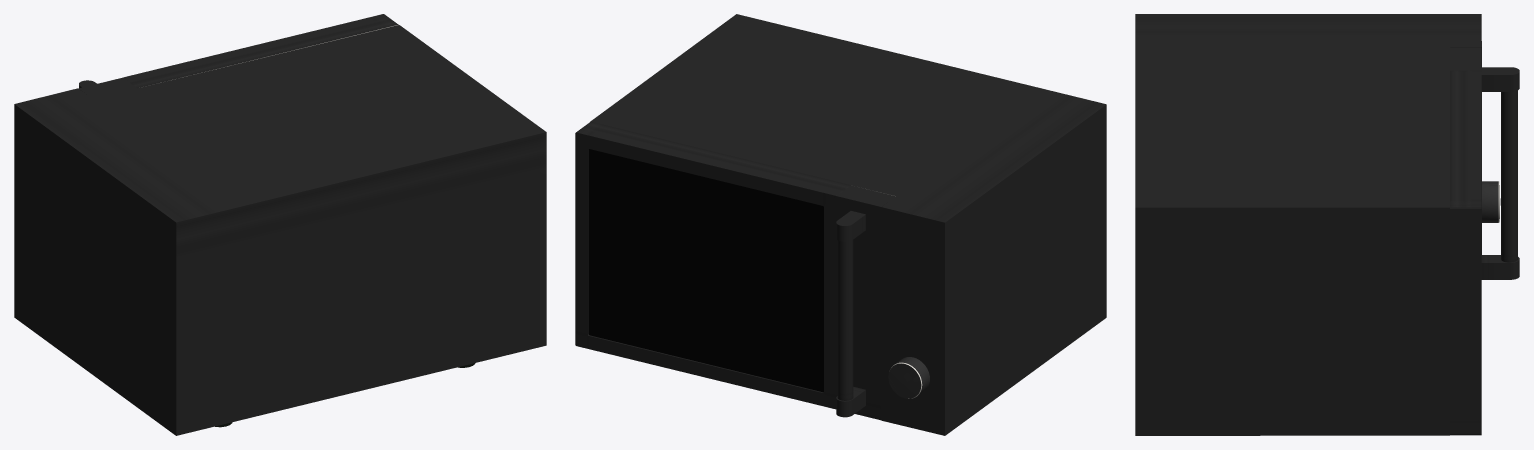
File: MicrowaveOven03.glb
3 renders of one model, left to right at view 1: azimuth 30°, elevation 25°; view 2: azimuth 150°, elevation 25°; view 3: azimuth 270°, elevation 25°, orthographic. The views are drawn at different scales.
Visible parts, largest first — view 1: MicrowaveOven03_model, MicrowaveOven03_Door; view 2: MicrowaveOven03_model, MicrowaveOven03Glass, MicrowaveOven03_Door, MicrowaveOven03_Knob; view 3: MicrowaveOven03_model, MicrowaveOven03_Door, MicrowaveOven03_Knob.
Boxes of the visible parts, bbox=[...] form: MicrowaveOven03_model: bbox=[14, 25, 546, 435]; MicrowaveOven03_Door: bbox=[78, 14, 398, 98]; MicrowaveOven03_model: bbox=[590, 14, 1106, 435]; MicrowaveOven03Glass: bbox=[588, 149, 823, 392]; MicrowaveOven03_Door: bbox=[575, 122, 895, 420]; MicrowaveOven03_Knob: bbox=[888, 357, 929, 398]; MicrowaveOven03_model: bbox=[1135, 14, 1481, 435]; MicrowaveOven03_Door: bbox=[1450, 47, 1519, 435]; MicrowaveOven03_Knob: bbox=[1482, 181, 1500, 222].
Size of the model in its own units: 1.15 by 0.6847 by 0.9699.
Materials: 2 (1 with a texture image).
